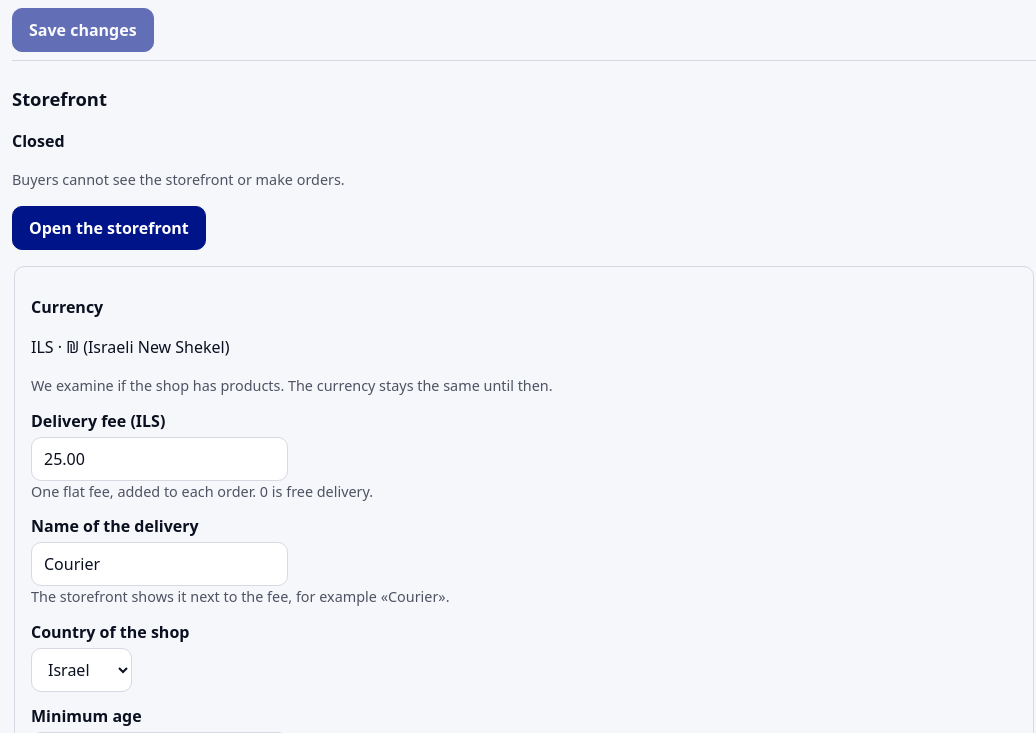
the storefront switch › opens a ready storefront through PUT .../shop/storefront and shows it open
Check: the element showing "Closed" is shown, box [12,130,64,152]
Click the button "Open the storefront" at (109, 228), box [12,206,206,250]
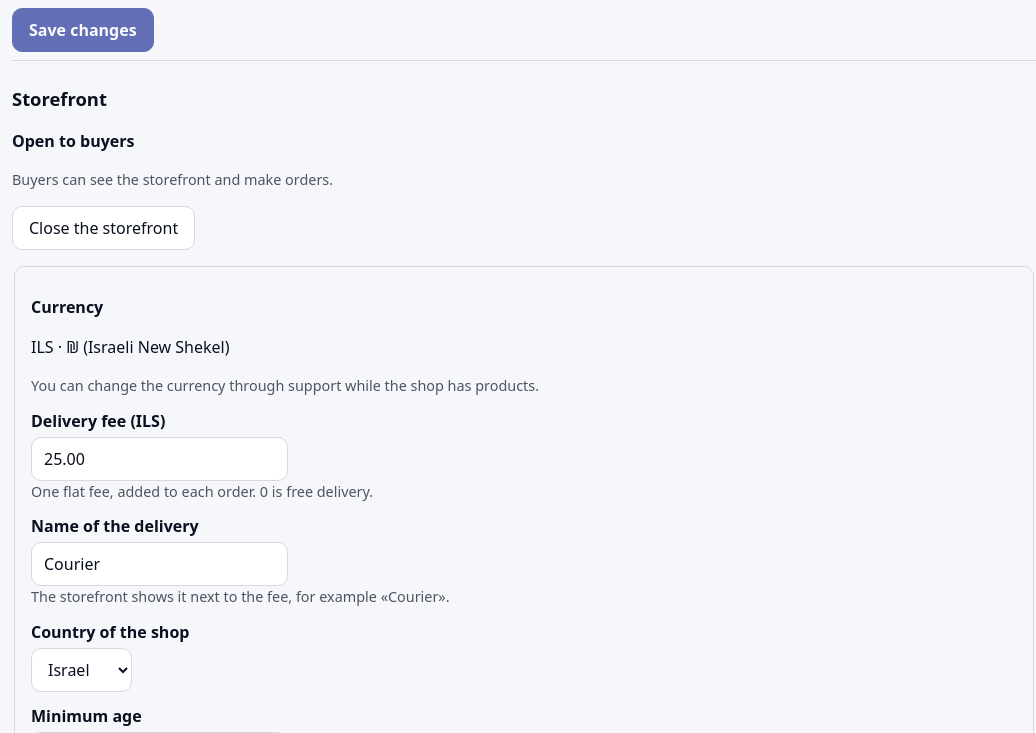
Check: the element showing "Open to buyers" is shown, box [12,130,134,152]
Check: the button "Close the storefront" is shown, box [12,206,195,250]
